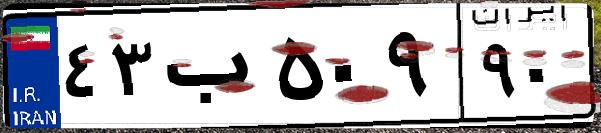0: (330, 28, 385, 110), (525, 38, 570, 115)
3: (110, 28, 158, 98)
4: (57, 26, 110, 100)
5: (270, 28, 330, 110)
9: (385, 28, 445, 110), (475, 38, 525, 113)
ب: (158, 20, 270, 120)
